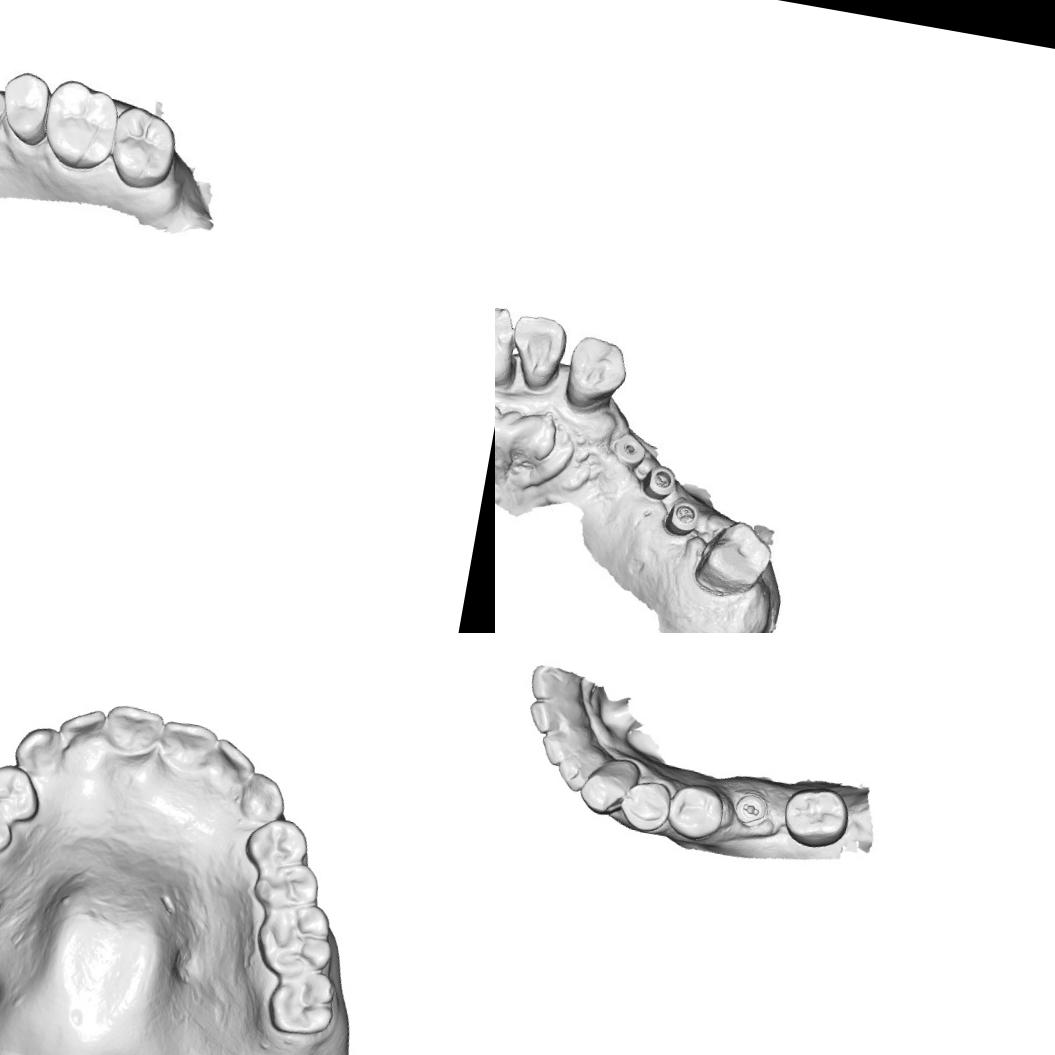canine: (558, 331, 632, 413), (576, 752, 641, 820), (10, 720, 67, 778), (238, 767, 291, 822)
crown: (688, 514, 780, 606)
implant: (602, 426, 650, 474), (664, 498, 701, 538), (642, 463, 680, 499)
implant_minus: (729, 788, 772, 828)
incisor: (502, 304, 571, 394), (156, 713, 222, 776), (100, 700, 165, 757), (495, 296, 527, 392), (523, 696, 588, 742), (527, 661, 590, 708), (208, 735, 258, 794), (57, 700, 109, 750), (538, 722, 583, 769), (553, 748, 594, 794)
molar: (37, 75, 123, 174), (250, 898, 337, 982), (102, 101, 182, 192), (260, 964, 342, 1040), (776, 780, 854, 853)
premolar: (0, 66, 56, 148), (249, 854, 323, 916), (242, 813, 312, 876), (664, 778, 727, 844), (616, 776, 676, 836), (0, 760, 46, 824), (0, 793, 18, 857)
